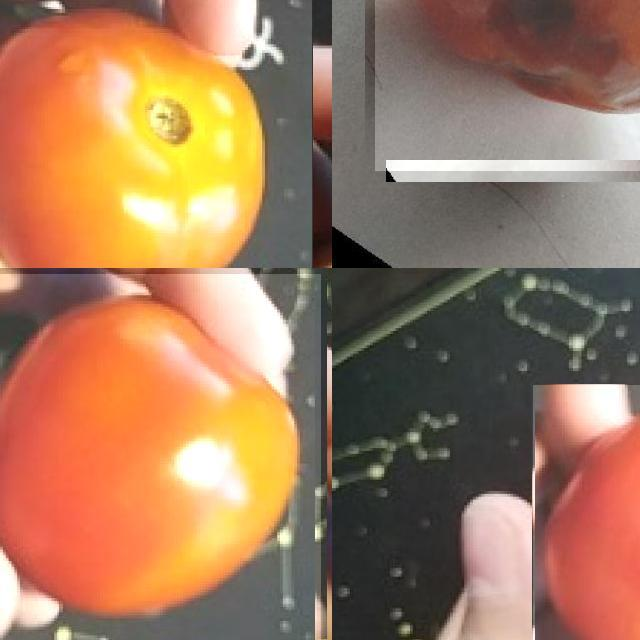Fresh Tomato: (0, 274, 320, 640)
Rotten Tomato: (0, 0, 312, 268), (375, 0, 640, 171), (532, 385, 640, 640)
